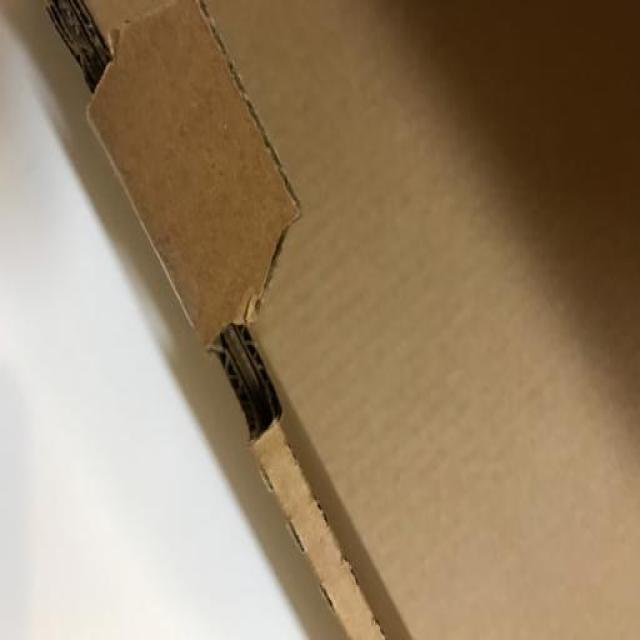cardboard: (45, 0, 640, 640)
